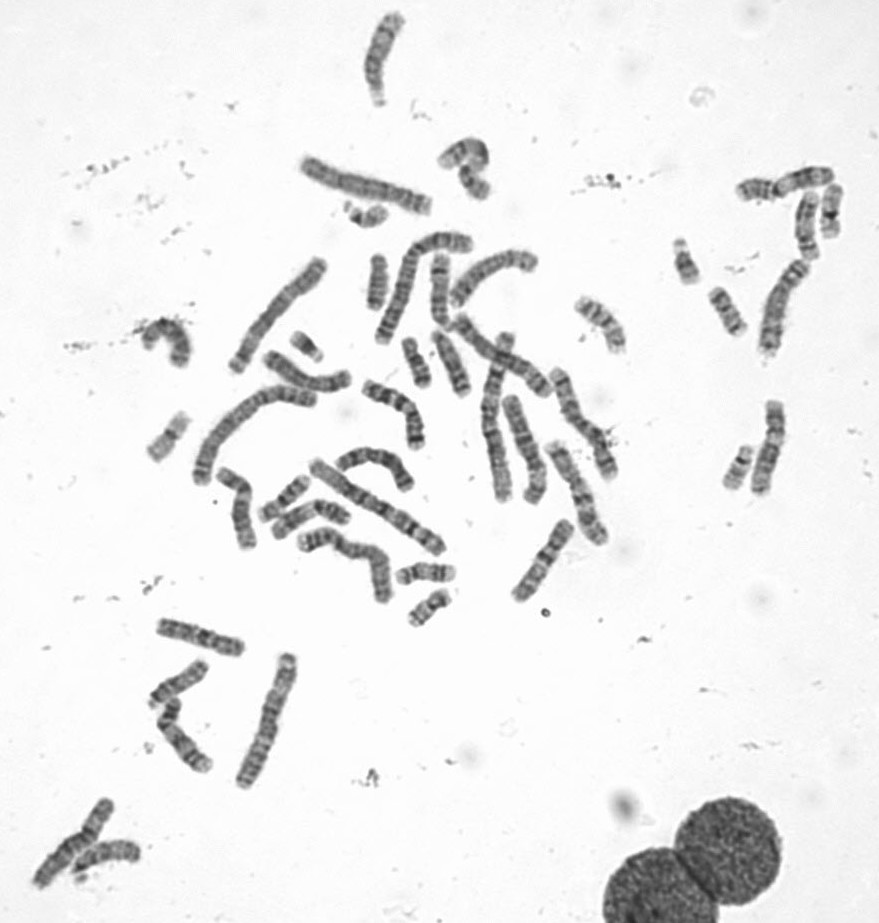chromosomes: (305, 453, 450, 560), (212, 251, 329, 377), (187, 383, 319, 491), (365, 229, 477, 347), (287, 147, 434, 221), (22, 789, 118, 898), (230, 647, 297, 796), (450, 312, 555, 401), (546, 362, 622, 484), (294, 527, 394, 609), (476, 325, 520, 502), (546, 437, 615, 549), (350, 9, 416, 122), (505, 514, 580, 607), (153, 696, 230, 786), (448, 245, 542, 313), (756, 252, 815, 359), (500, 393, 551, 510), (362, 373, 431, 455), (724, 160, 840, 208), (431, 129, 498, 207), (61, 836, 145, 898), (743, 397, 792, 497), (257, 348, 355, 395), (335, 444, 422, 496), (149, 617, 247, 662), (699, 274, 761, 345), (568, 294, 630, 363), (136, 658, 213, 712), (217, 461, 260, 554), (136, 408, 197, 470), (270, 500, 354, 544), (430, 325, 473, 398), (138, 313, 194, 369), (425, 252, 461, 337), (253, 471, 311, 523), (717, 437, 763, 501), (402, 587, 456, 635), (792, 190, 823, 266), (393, 558, 464, 589), (398, 334, 434, 391), (818, 178, 849, 242), (364, 249, 394, 315), (664, 236, 700, 290), (340, 197, 392, 233), (288, 330, 334, 369)
